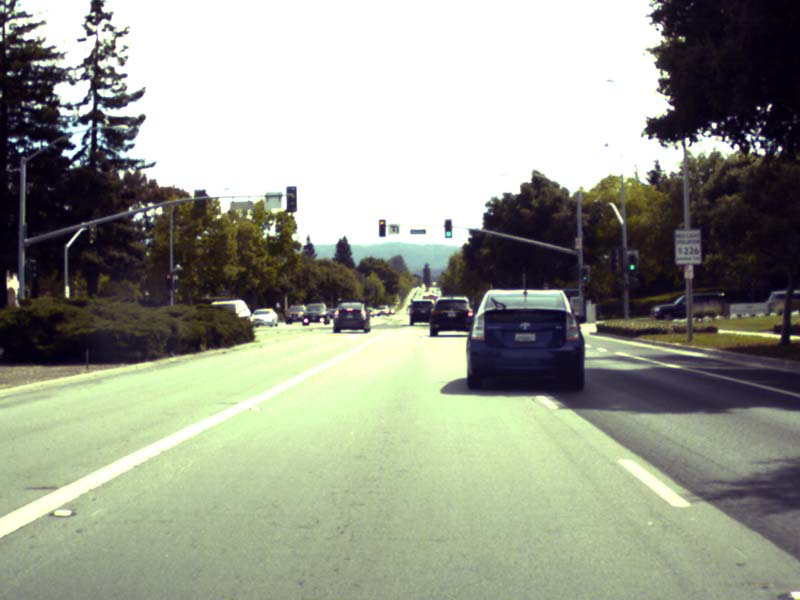Green: (626, 253, 636, 272), (443, 218, 452, 238), (580, 268, 587, 281)
Red: (378, 218, 385, 237), (165, 272, 172, 289)
